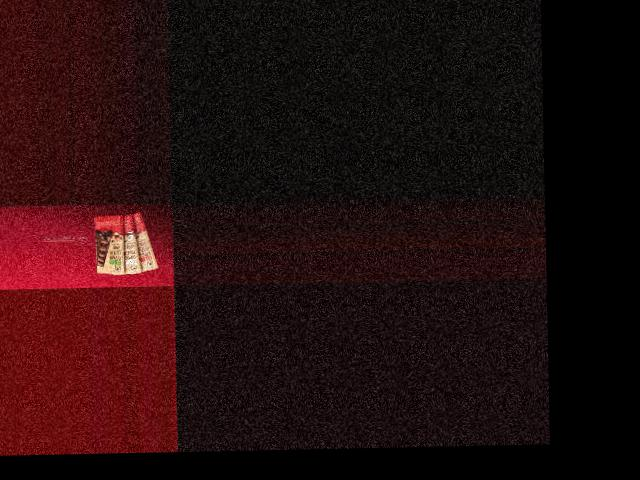chocolate: (126, 208, 158, 275)
